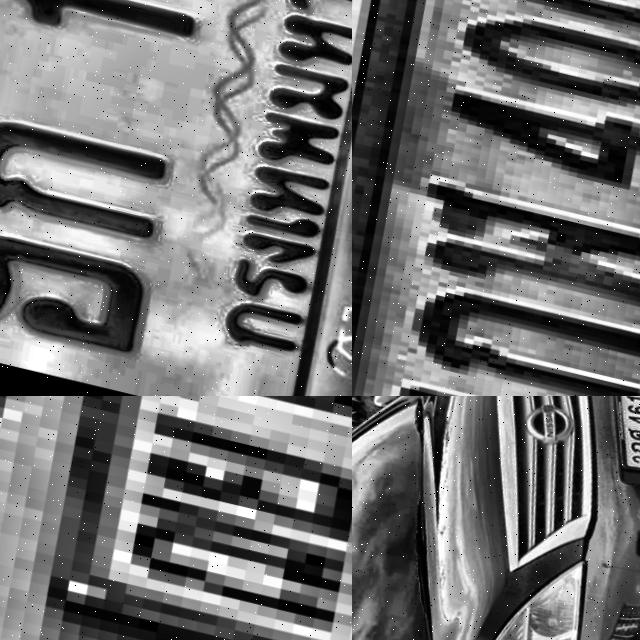license-plate: (0, 0, 352, 396), (352, 0, 640, 396), (0, 396, 352, 640), (590, 396, 640, 483)
